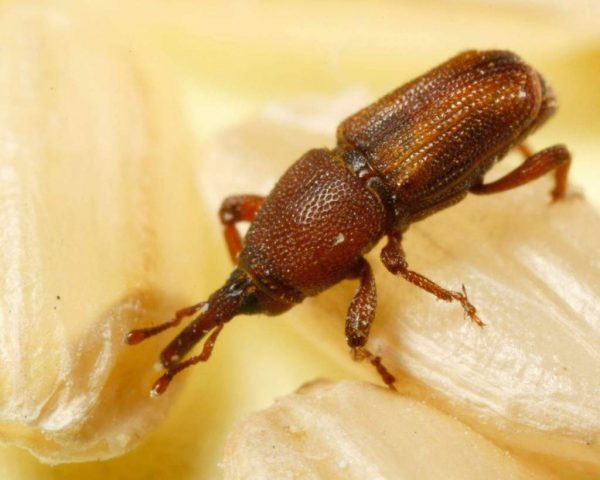dolgonosik: (116, 50, 575, 398)
